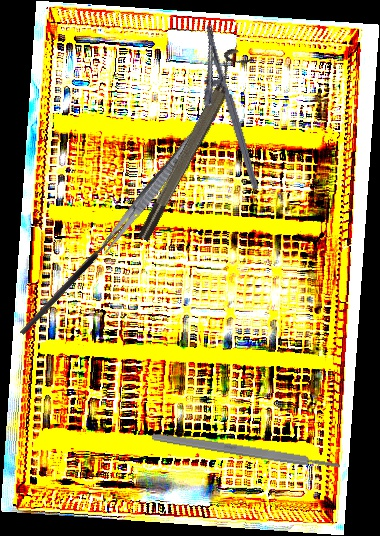Dressing Forceps: (96, 127, 204, 258)
Fixation Ring: (126, 45, 254, 244)
Hook Surgical: (13, 214, 130, 337)
Needle Holder: (183, 23, 260, 197)
Scalpel Handle: (151, 431, 341, 472)
